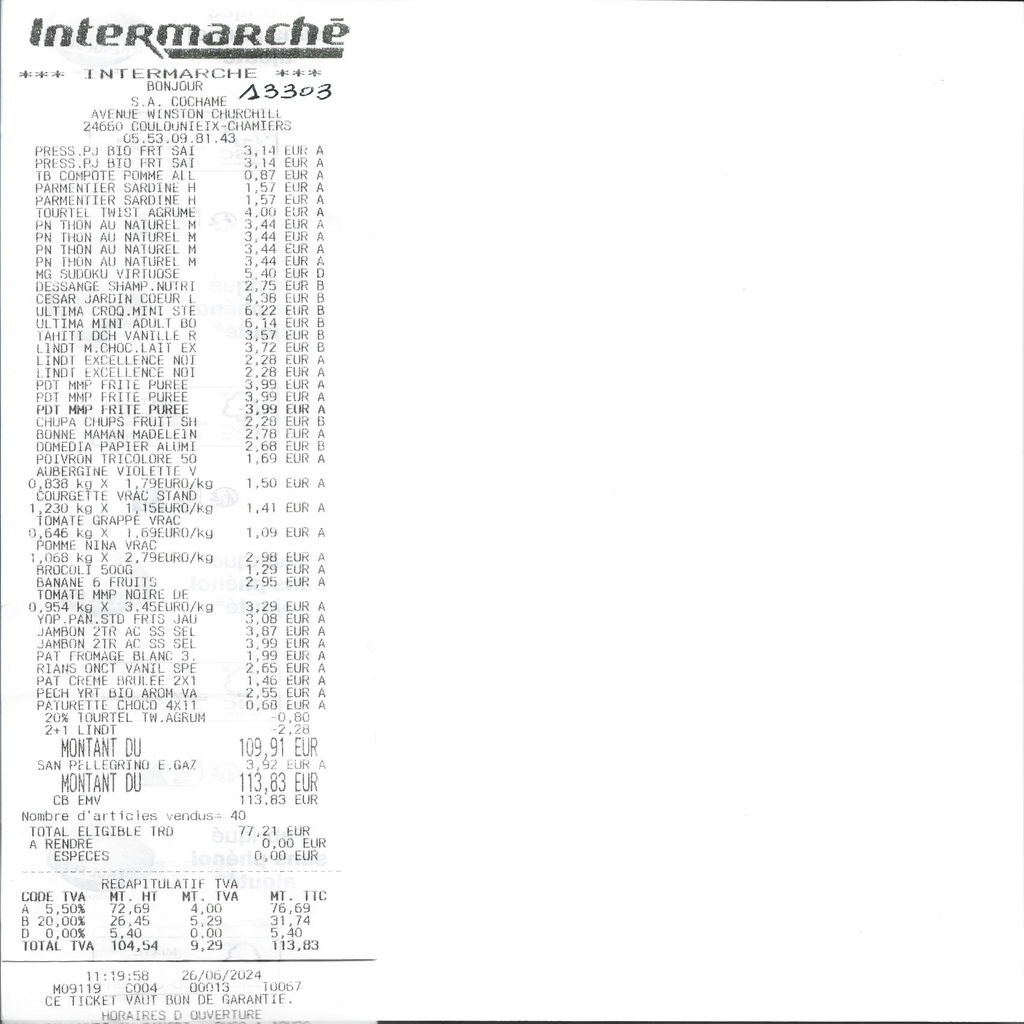recipt: (4, 0, 1022, 1020)
